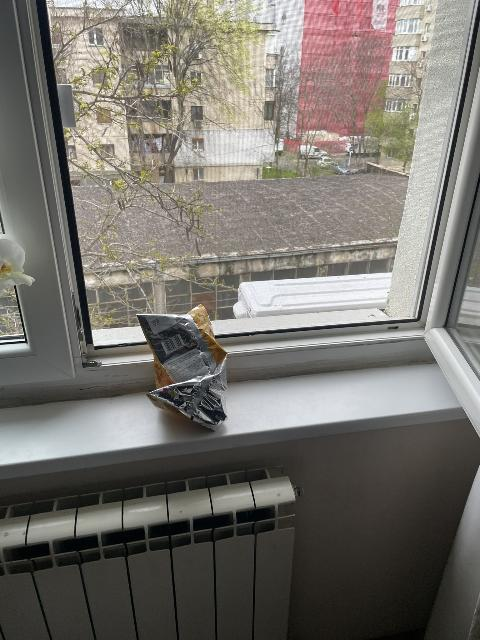Chio Hula Hoops Cheese 70g: (138, 305, 232, 428)
